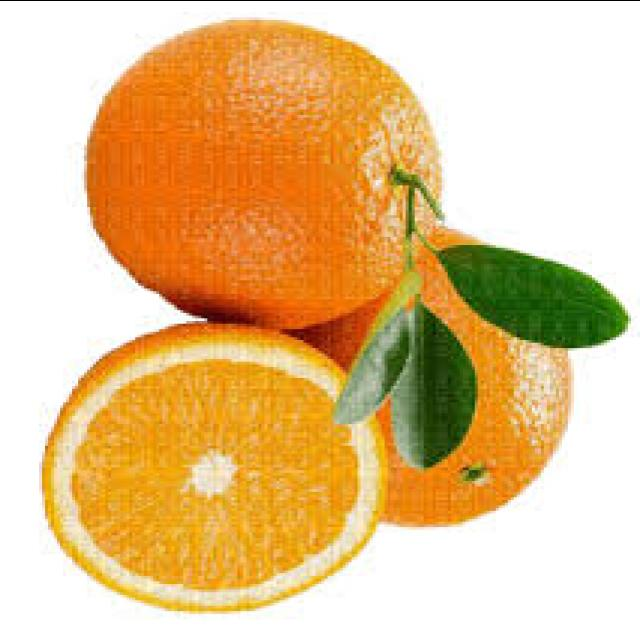orange: (92, 16, 466, 322)
